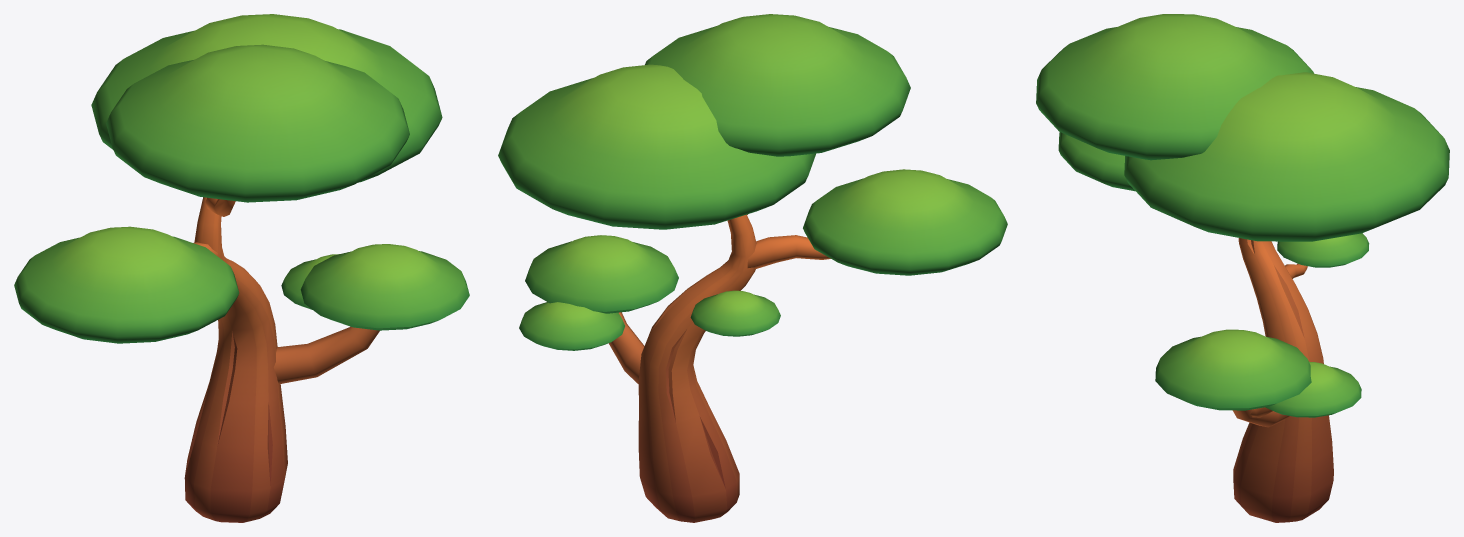
Rendered from Tree_3_C_Color1.gltf.
The picture shows the model from 3 angles, left to right: view 1: azimuth 30°, elevation 25°; view 2: azimuth 150°, elevation 25°; view 3: azimuth 270°, elevation 25°; orthographic projection. The views are drawn at different scales.
Parts seen in each view (by area): view 1: Tree_3_C_Color1; view 2: Tree_3_C_Color1; view 3: Tree_3_C_Color1.
Part boxes in pixels (x1,y1,x2,y2): Tree_3_C_Color1: (14,14,469,522); Tree_3_C_Color1: (498,14,1007,522); Tree_3_C_Color1: (1036,14,1449,522).
Bounding box in the file's own units: 5.63 × 5.79 × 4.62.
Materials: 1 (1 with a texture image).
